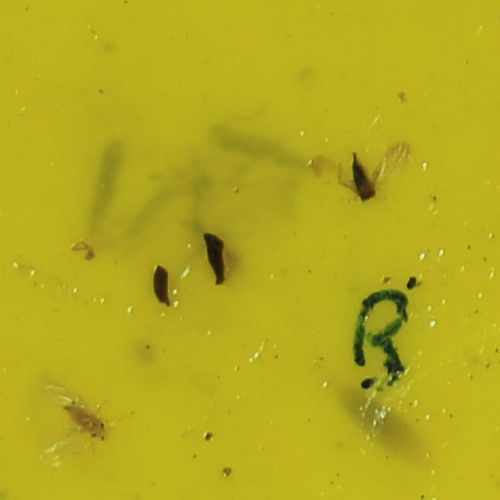Glycaspis: (63, 401, 108, 440)
psylla: (347, 150, 378, 204)
